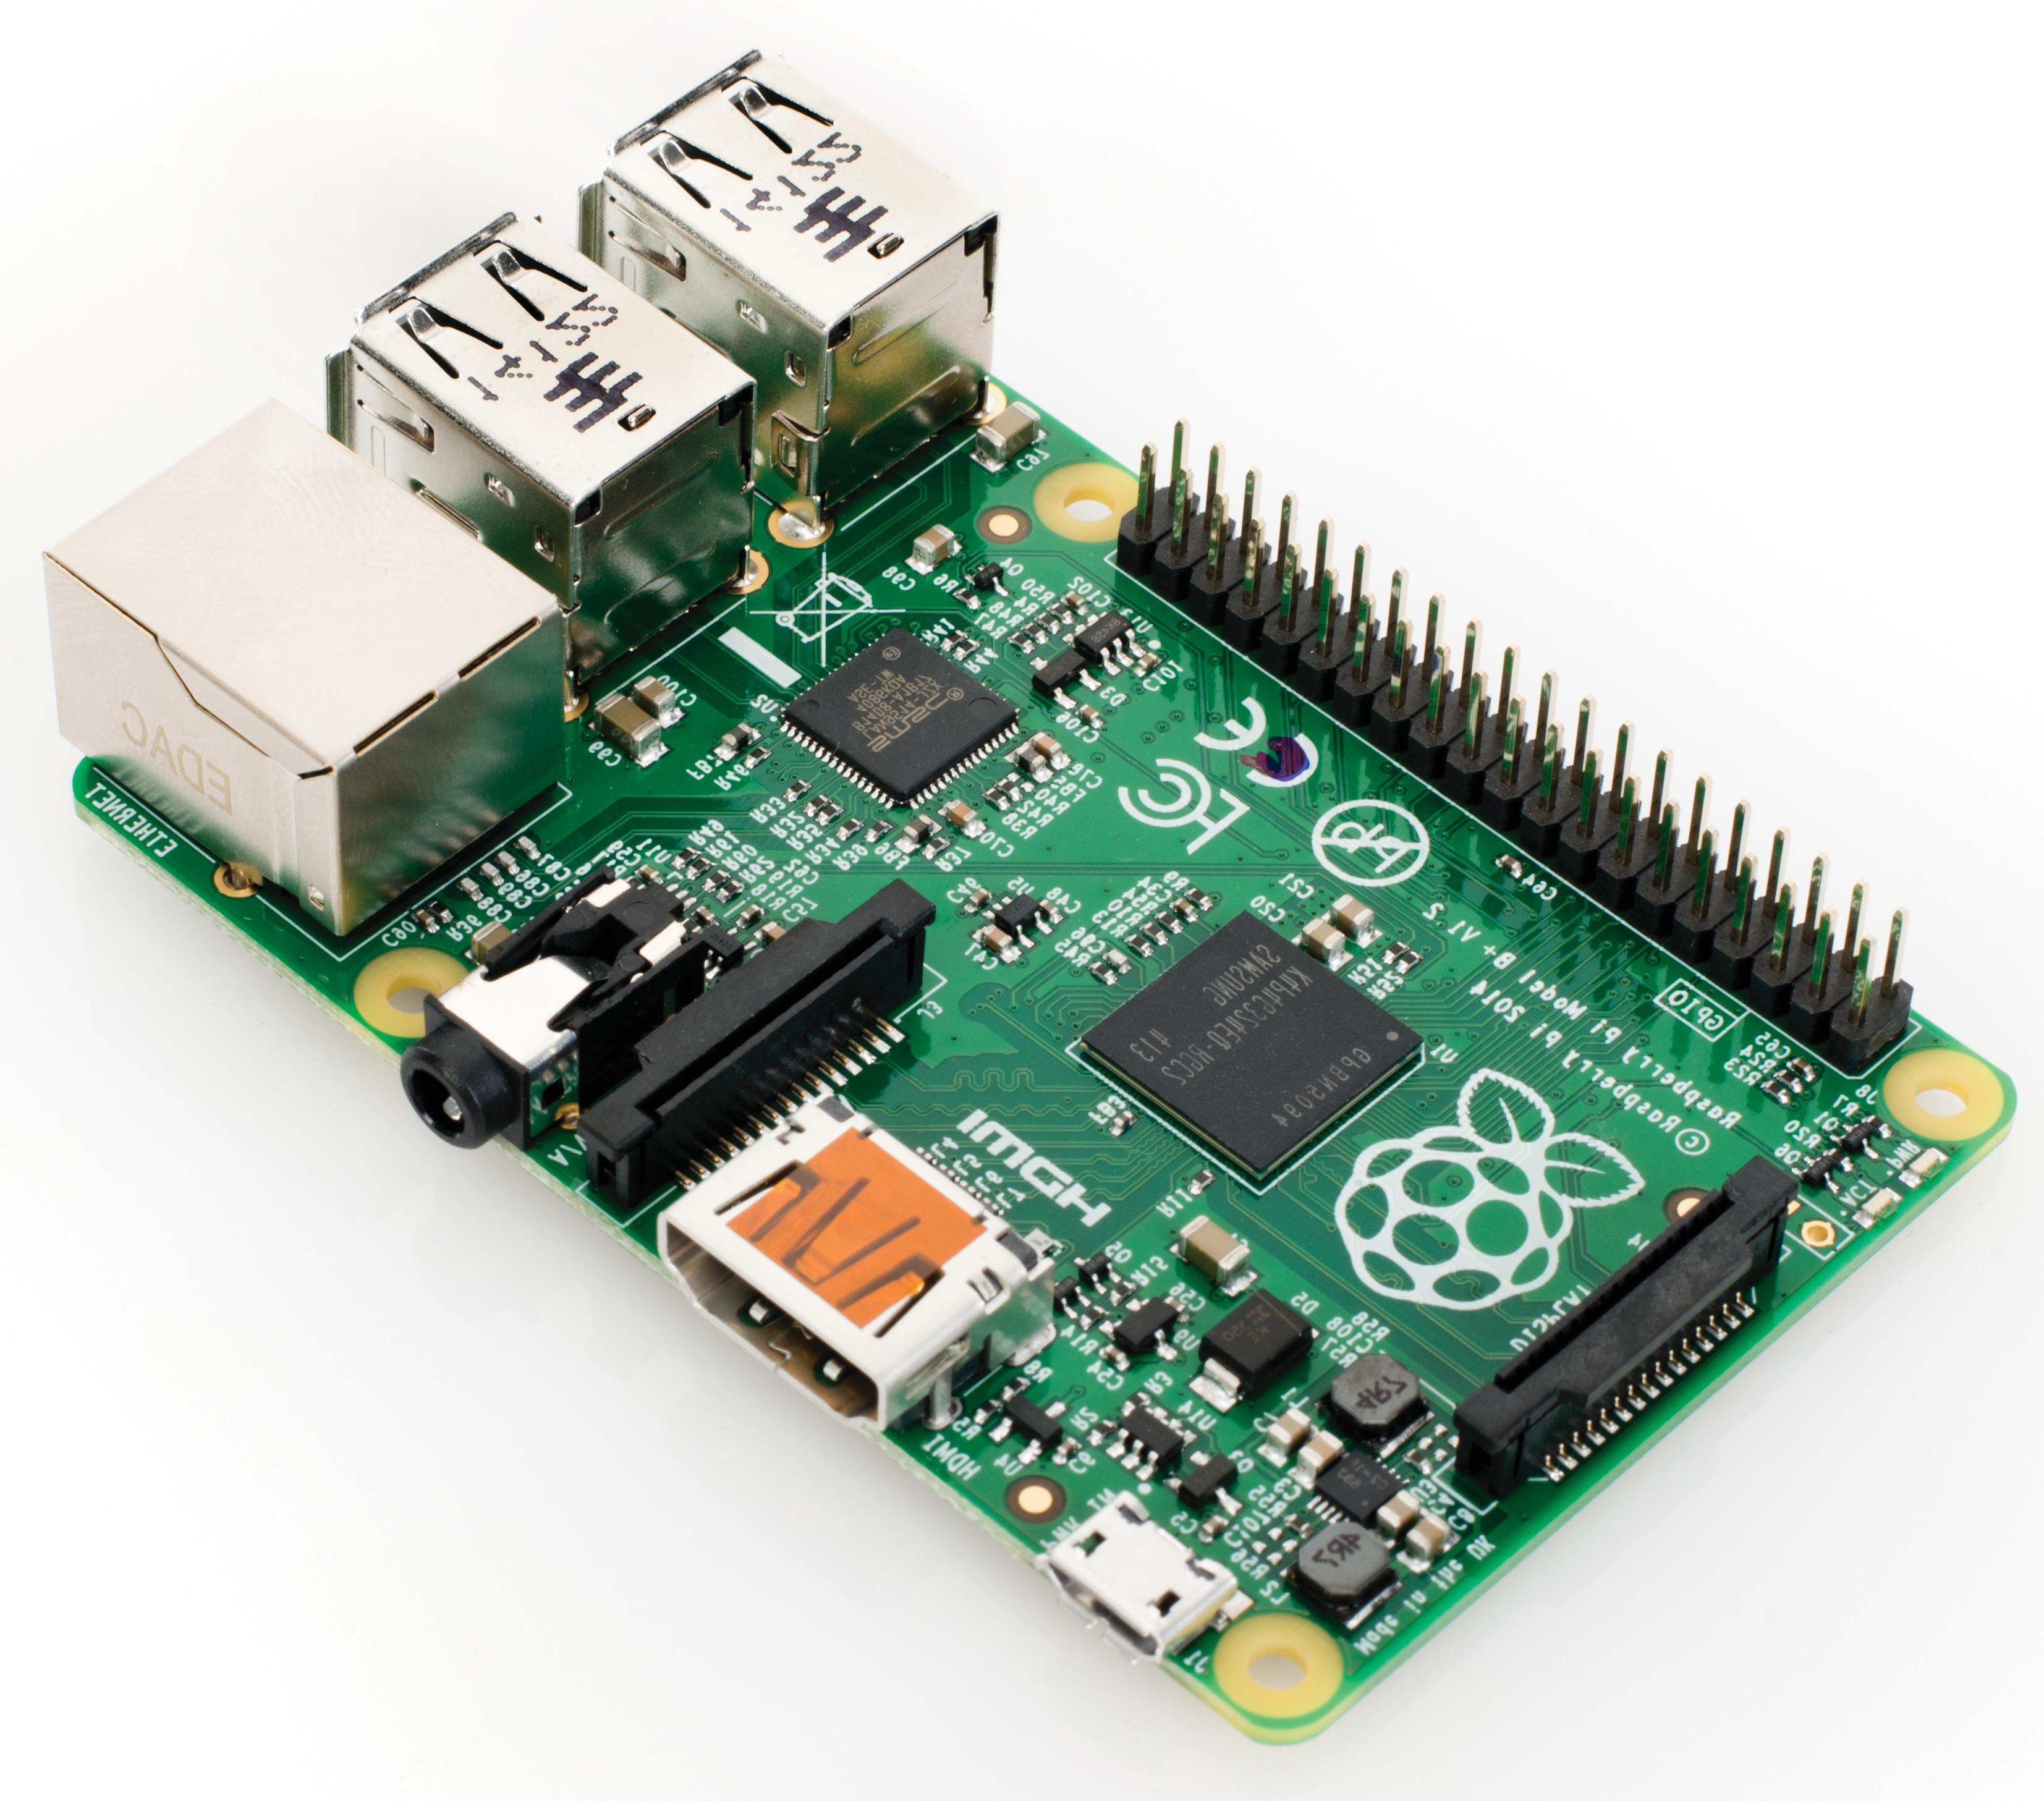audiojack: (396, 845, 709, 1140)
bchi: (1090, 913, 1430, 1182)
ethernet: (40, 389, 570, 954)
gpio: (1097, 443, 1924, 1050)
usb: (358, 214, 747, 688), (600, 68, 994, 511)
